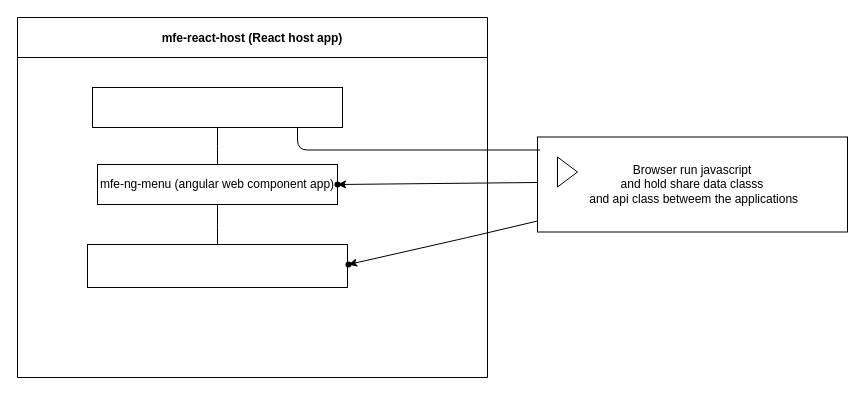
This 865x395 diagram has some shape labels left out. Here are the shapes that lost their labels. From the top down, the centre of each, then its label:
At (x=217, y=107): "mfe-ng-header (angular web component app)".
At (x=217, y=266): "mfe-ng-content (angular web component app)".
